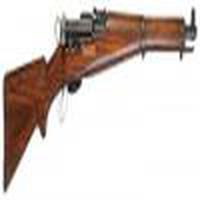gun: (1, 7, 200, 174)
